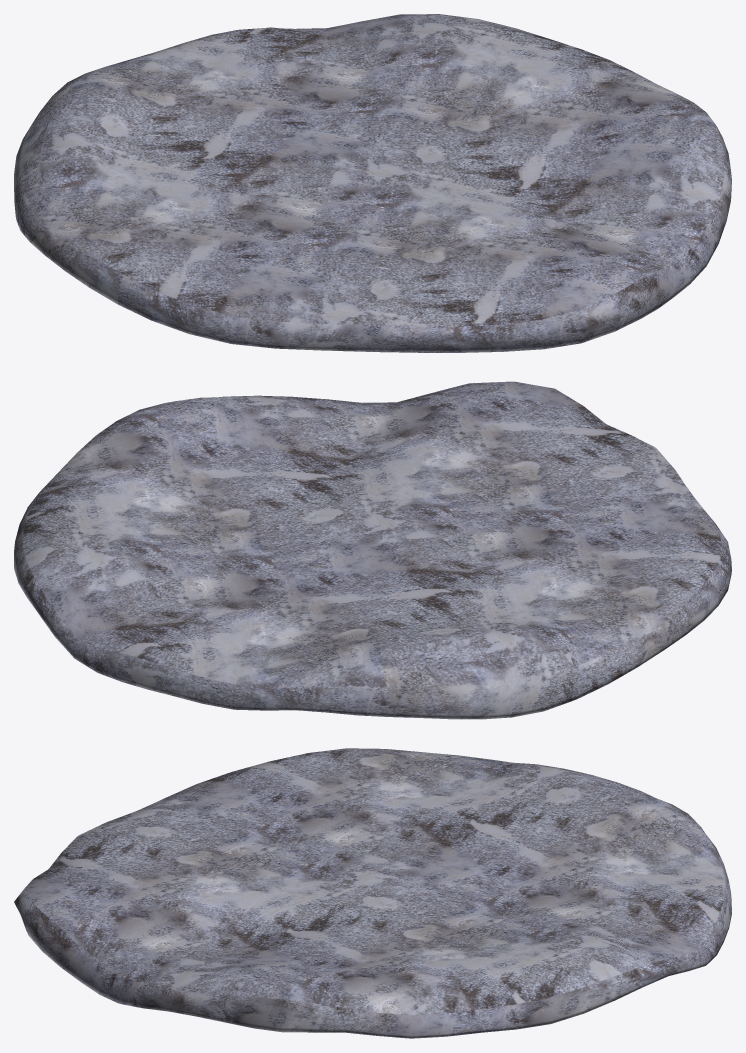
Rendered from blin3.glb.
3 views of the same model, one above another, from view 1: azimuth 30°, elevation 25°; view 2: azimuth 150°, elevation 25°; view 3: azimuth 270°, elevation 25° (orthographic). The views are drawn at different scales.
Visible parts, largest first — view 1: snowpole1; view 2: snowpole1; view 3: snowpole1.
Boxes of the visible parts, bbox=[...] form: snowpole1: bbox=[14, 14, 731, 352]; snowpole1: bbox=[14, 381, 731, 719]; snowpole1: bbox=[14, 748, 731, 1038].
Size of the model in its own units: 30.61 by 3.17 by 33.08.
Materials: 1 (1 with a texture image).
